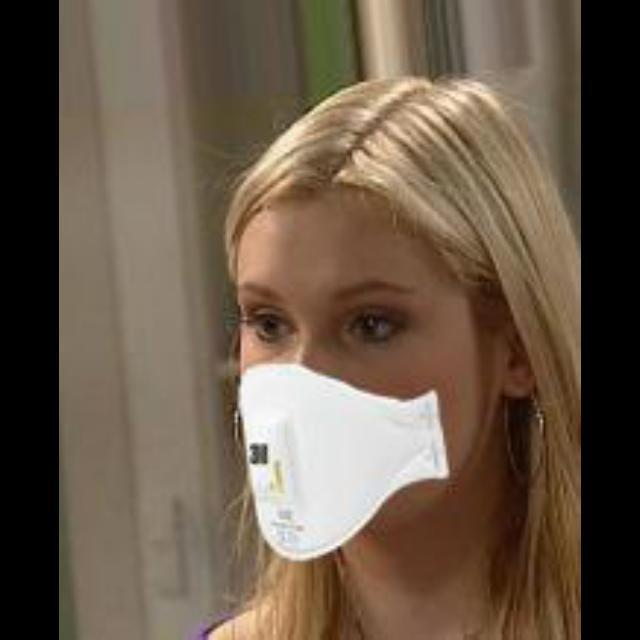suspicion: (155, 141, 545, 554)
